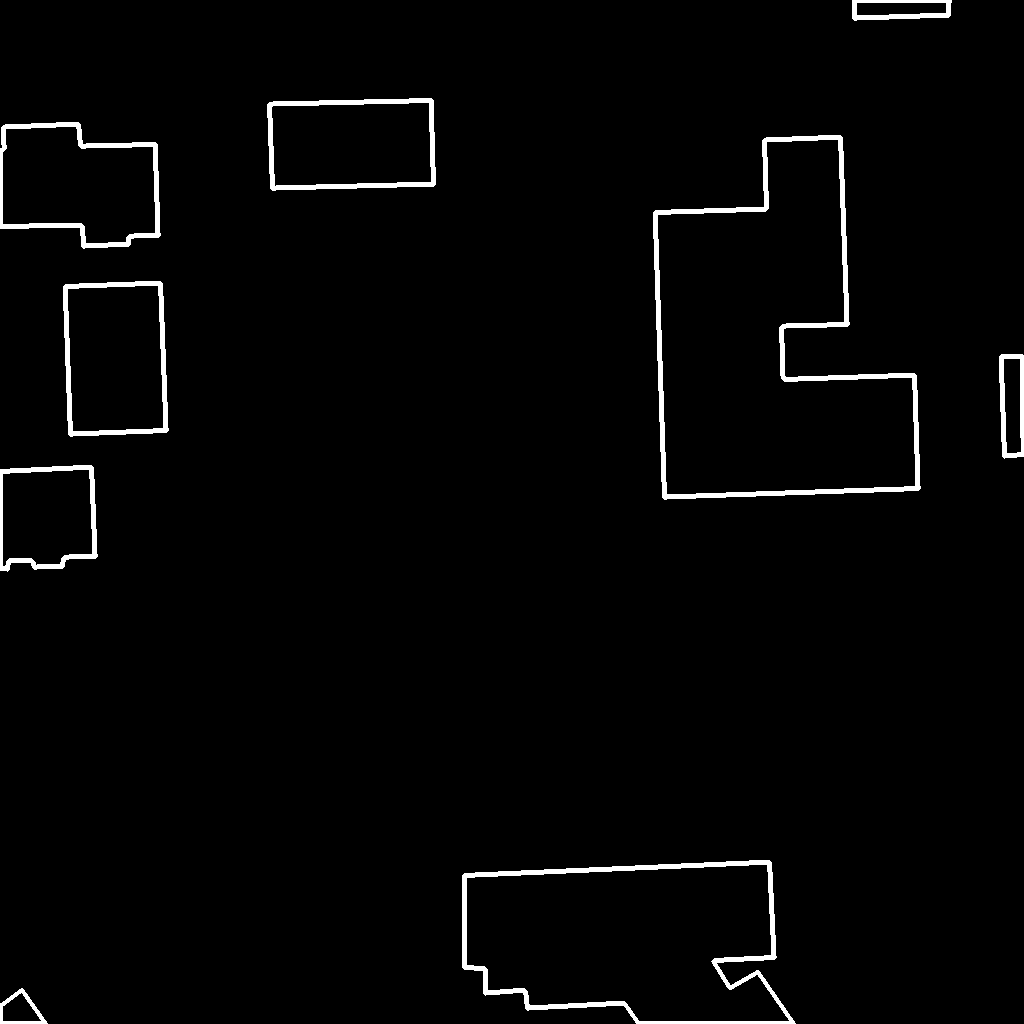building: (655, 137, 919, 498), (464, 862, 795, 1024), (0, 124, 159, 247), (65, 283, 167, 435), (269, 100, 435, 189), (0, 467, 96, 570), (1001, 356, 1024, 457), (854, 0, 950, 19), (0, 990, 47, 1024)
